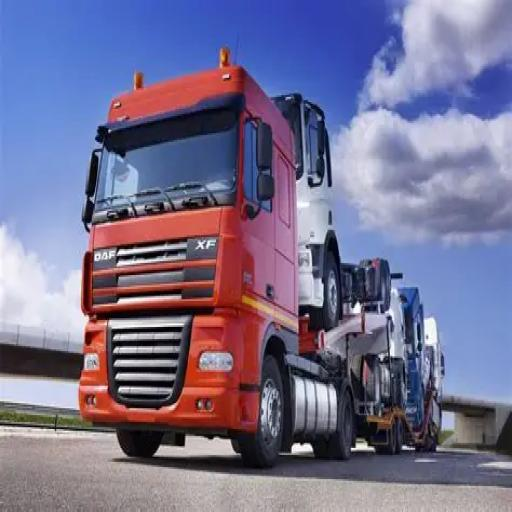truck: (77, 43, 444, 467)
